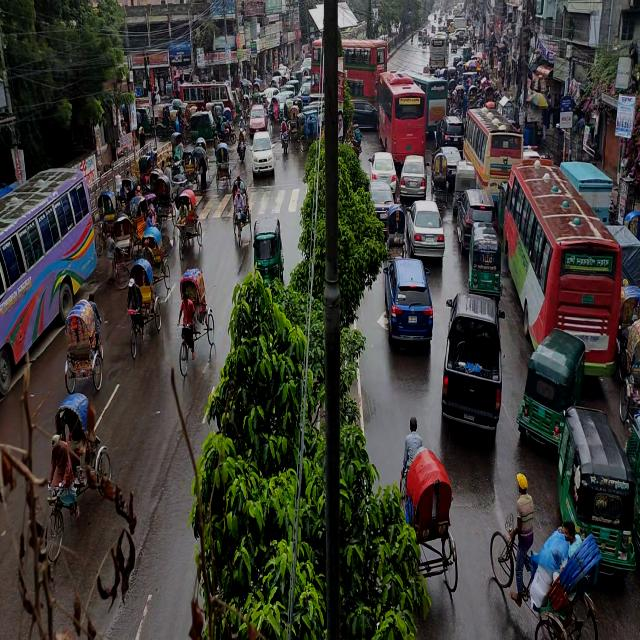black: (441, 297, 504, 436), (456, 184, 500, 257)
